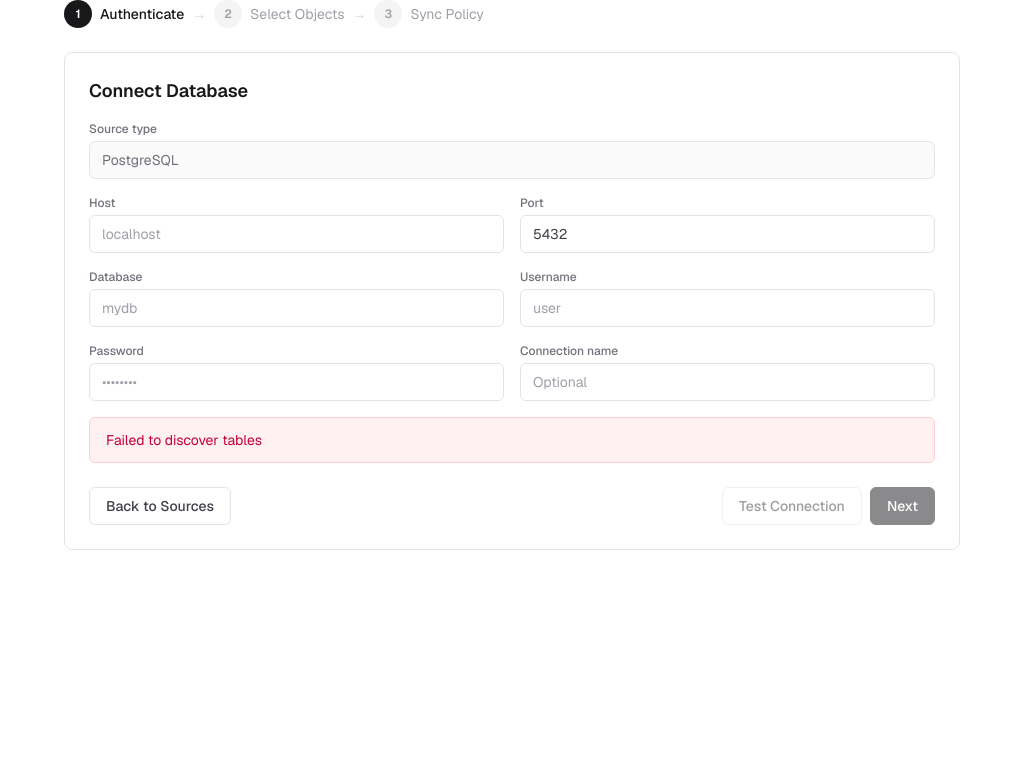
Test: SourceSetupWizard — DB source (postgresql) › shows error when createDataset throws on finish
The image size is (1024, 768).
Type "host" into the field with placeholder "localhost". click: (296, 234)
box: [89,215,504,253]
Type "db" into the field with placeholder "mydb". click: (296, 308)
box: [89,289,504,327]
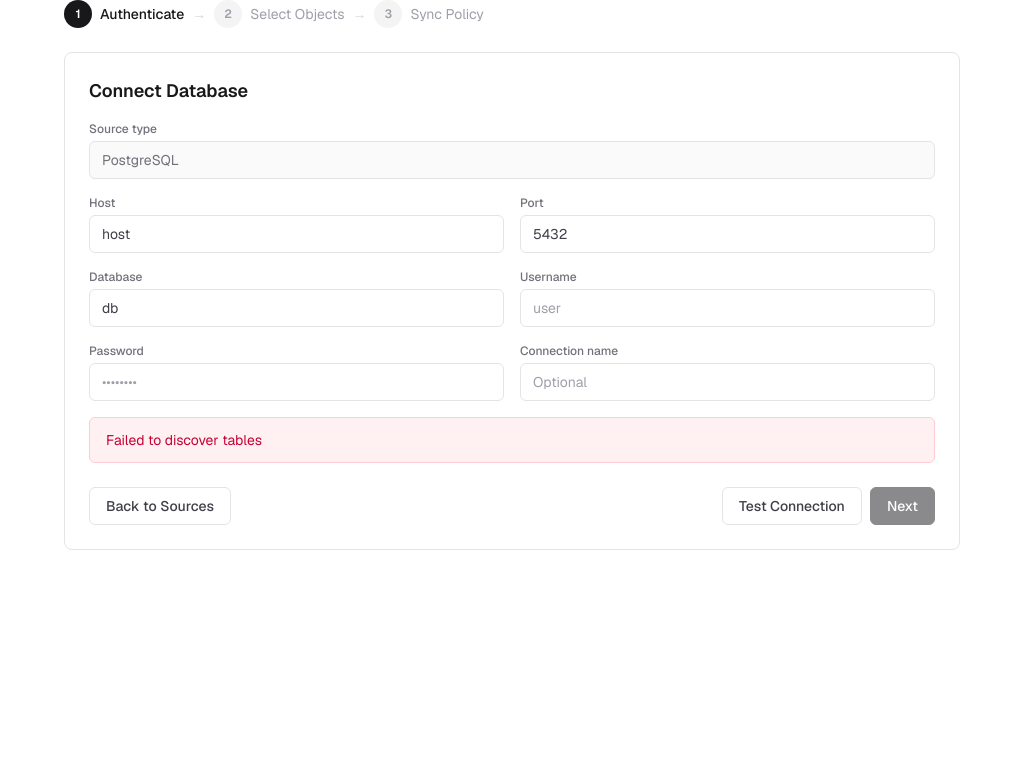
Click the button "Test Connection". click: (792, 506)
box: [722,487,862,525]
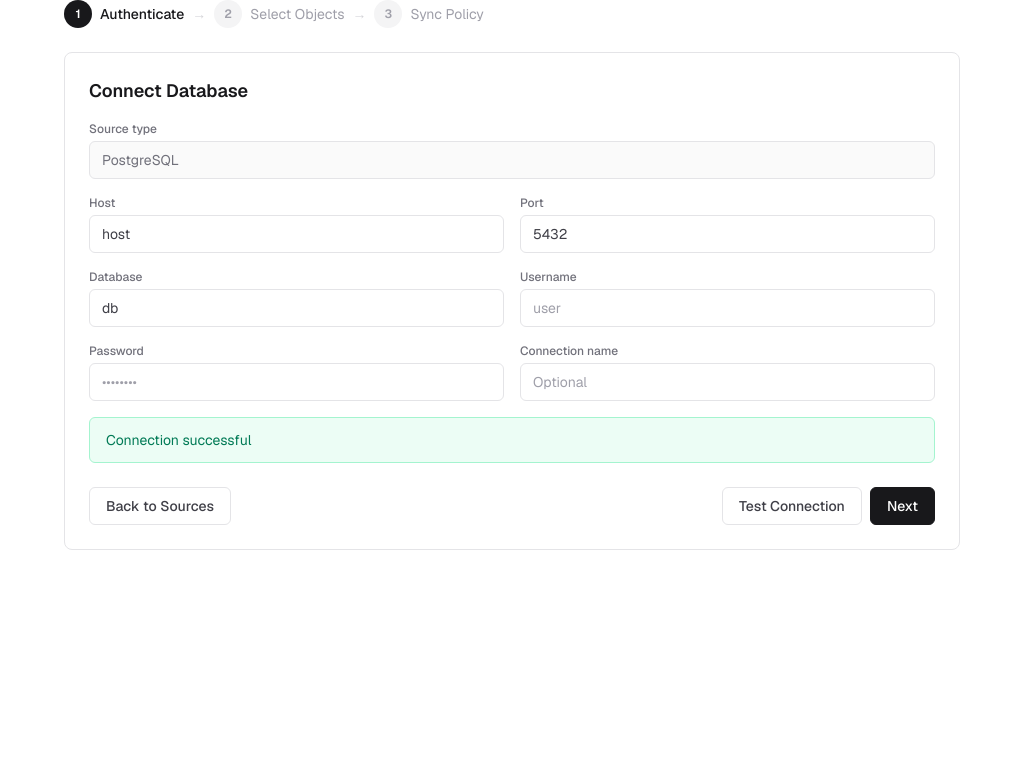
Check: the text "Connection successful" is shown, box [89,417,935,463]
Click the button "Next". click: (902, 506)
box: [870,487,935,525]
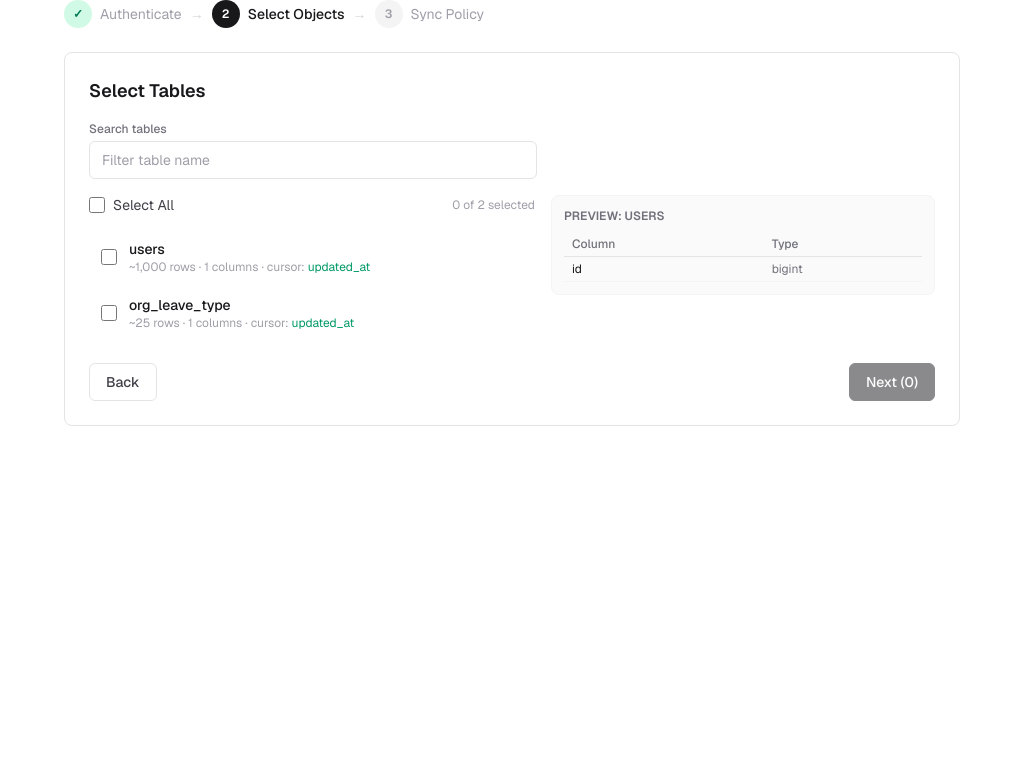
Check: the text "users" is shown, box [129,240,165,258]
Click the checkbox labelled "users ~1,000 rows · 1 columns · cursor: updated_at". click: (109, 257)
box: [101,249,117,265]
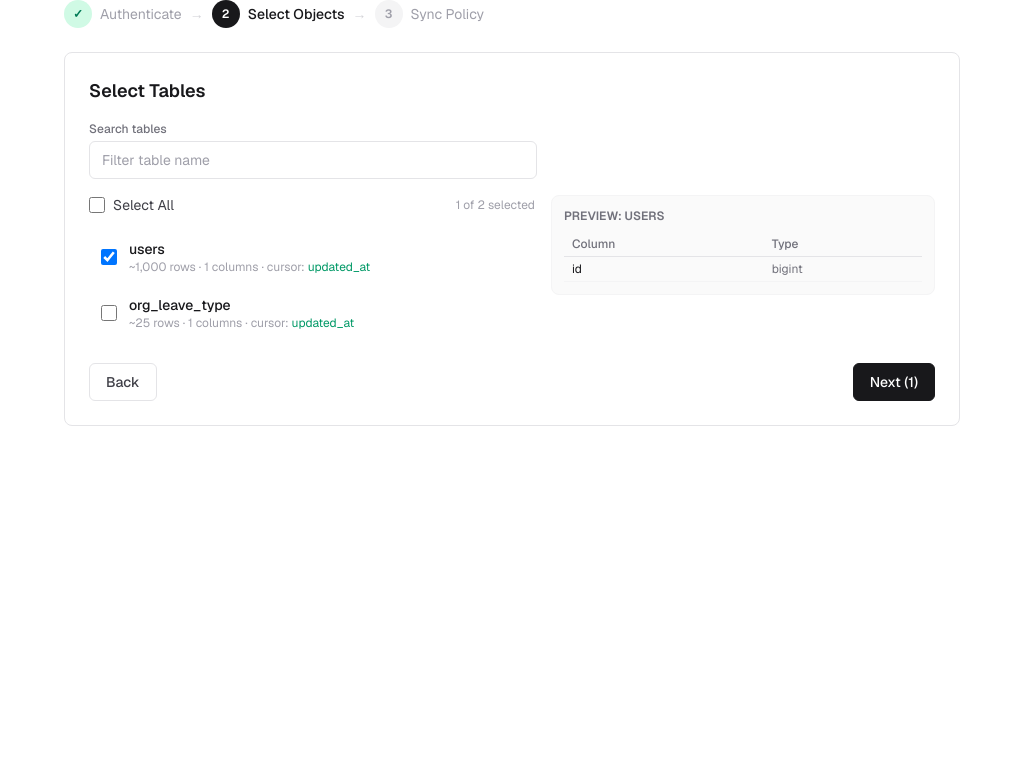
Click the button "Next (1)". click: (894, 382)
box: [853,363,935,401]
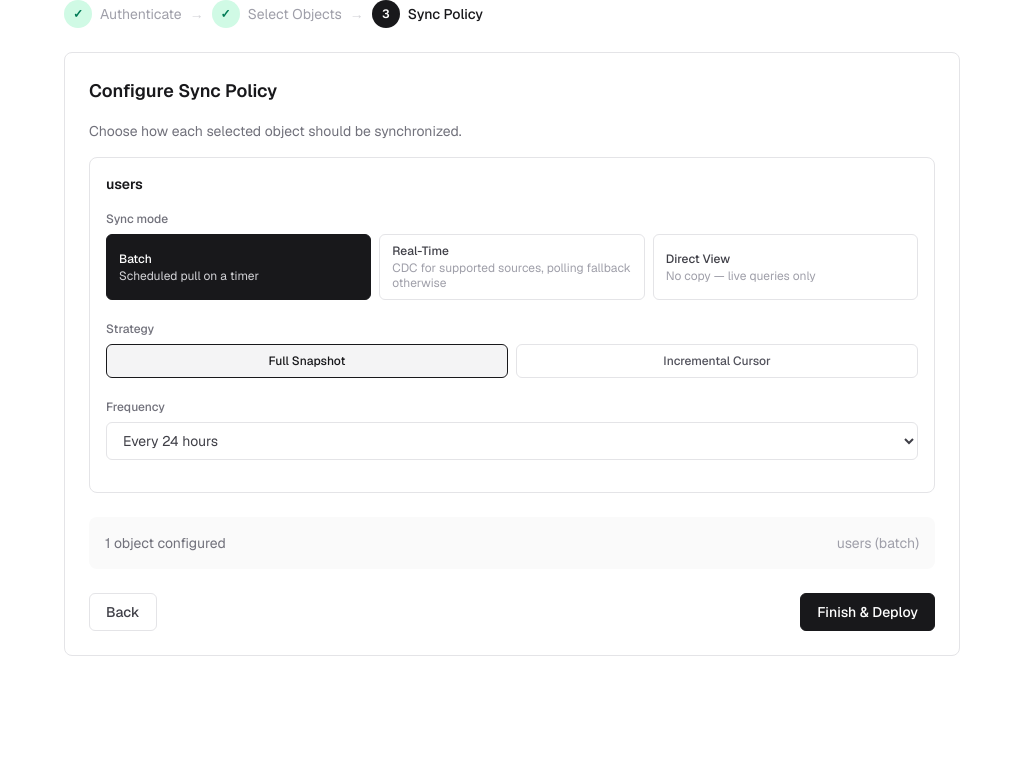
Check: the heading "Configure Sync Policy" is shown, box [89,79,277,102]
Click the button "Finish & Deploy". click: (868, 612)
box: [800,593,935,631]
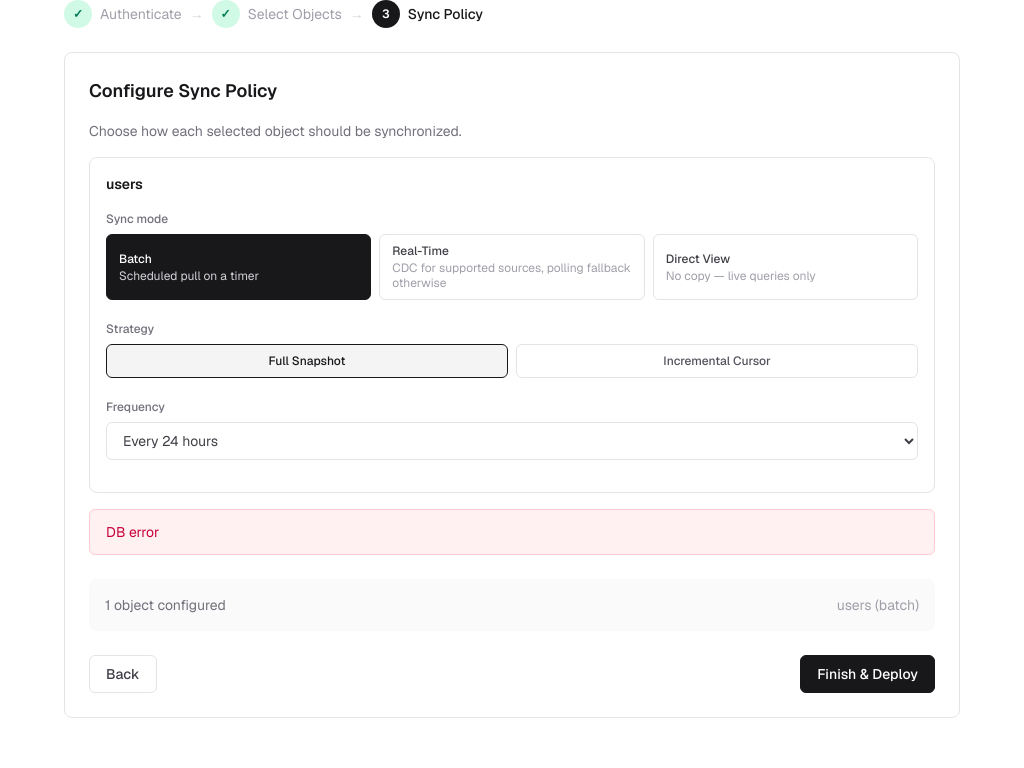
Check: the text "DB error" is shown, box [89,509,935,555]
